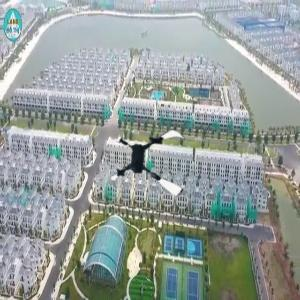drone: (111, 122, 195, 206)
